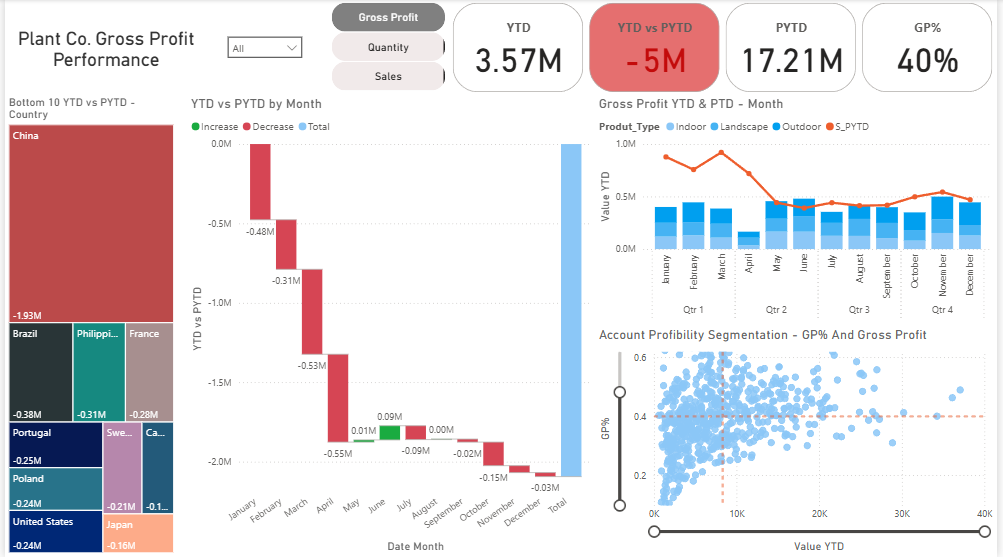

This screenshot's page, from the dashboard's own definition file:
{"tool":"powerbi","page":{"name":"Performance Report","canvas":[1280,720],"ordinal":0},"visuals":[{"type":"advancedSlicerVisual","fields":{"Values":["Slc Values.Values"]},"box":[416.4,0,156.1,125.8],"z":0},{"type":"cardVisual","fields":{"Data":["_Measures.YTD_Sales","_Measures.YTD vs PYTD","_Measures.PYTD_Sales","_Measures.GP%"]},"box":[572.5,0,707,125.8],"z":1000},{"type":"slicer","fields":{"Values":["Dim_Date.Date.Variation.Date Hierarchy.Year"]},"box":[277.6,39,115.7,49.2],"z":2000},{"type":"treemap","title":"Bottom 10 YTD vs PYTD - Country","fields":{"Values":["_Measures.YTD vs PYTD"],"Group":["Dim_Accounts.country"]},"box":[0,125.8,222.7,594.2],"z":3000},{"type":"waterfallChart","fields":{"Y":["_Measures.YTD vs PYTD"],"Category":["Dim_Date.Date.Variation.Date Hierarchy.Month","Dim_Accounts.country"]},"box":[234.2,125.8,527.7,594.2],"z":4000},{"type":"lineStackedColumnComboChart","fields":{"Y2":["_Measures.S_PYTD"],"Y":["_Measures.S_YTD"],"Category":["Dim_Date.Date.Variation.Date Hierarchy.Quarter","Dim_Date.Date.Variation.Date Hierarchy.Month"],"Series":["Dim_Product.Produt_Type"]},"box":[761.9,125.8,517.6,297.8],"z":5000},{"type":"scatterChart","fields":{"Y":["_Measures.GP%"],"X":["_Measures.S_YTD"],"Category":["Dim_Accounts.Account"]},"box":[761.9,423.6,517.6,296.4],"z":6000},{"type":"card","fields":{"Values":["_Measures._Report Title"]},"box":[0,0,267.5,125.8],"z":7000}]}

Visuals, with their boxes in screenshot pixels (x1, y1, x2, y2), scaled from the page's 1280x720 canvas onto the 1003x557 screenshot:
advancedSlicerVisual - Slc Values.Values: bbox(326, 0, 449, 97)
cardVisual - _Measures.YTD_Sales x _Measures.YTD vs PYTD: bbox(449, 0, 1002, 97)
slicer - Dim_Date.Date.Variation.Date Hierarchy.Year: bbox(218, 30, 308, 68)
"Bottom 10 YTD vs PYTD - Country" treemap: bbox(0, 97, 175, 556)
waterfallChart - _Measures.YTD vs PYTD x Dim_Date.Date.Variation.Date Hierarchy.Month: bbox(184, 97, 597, 556)
lineStackedColumnComboChart - _Measures.S_PYTD x _Measures.S_YTD: bbox(597, 97, 1002, 328)
scatterChart - _Measures.GP% x _Measures.S_YTD: bbox(597, 328, 1002, 556)
card - _Measures._Report Title: bbox(0, 0, 210, 97)
